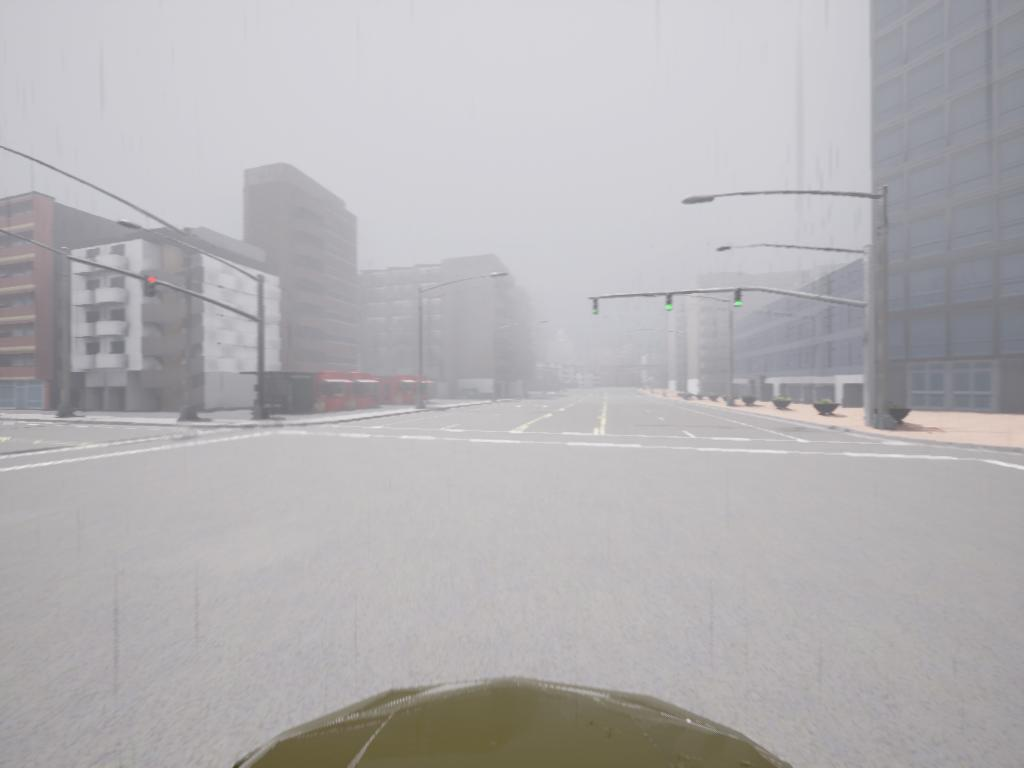traffic_light: (146, 277, 162, 299), (667, 292, 675, 315), (732, 292, 743, 307), (592, 300, 600, 317)
